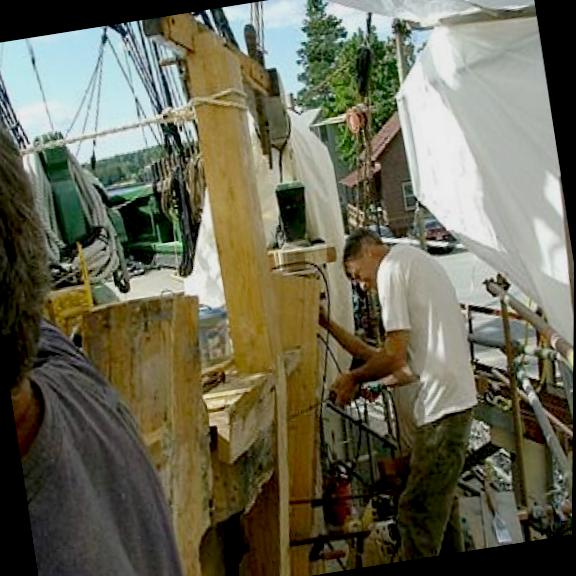no_safety_vest: (371, 234, 485, 418)
